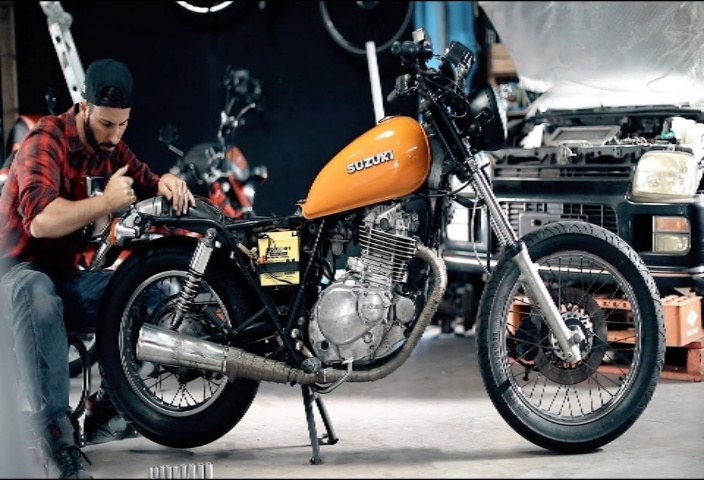camper: (407, 69, 704, 349)
motorcycle: (80, 34, 652, 463)
